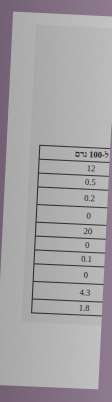carbs: (80, 253, 93, 265)
energy: (85, 162, 97, 174)
fat: (84, 176, 97, 188)
protein: (78, 302, 91, 314)
